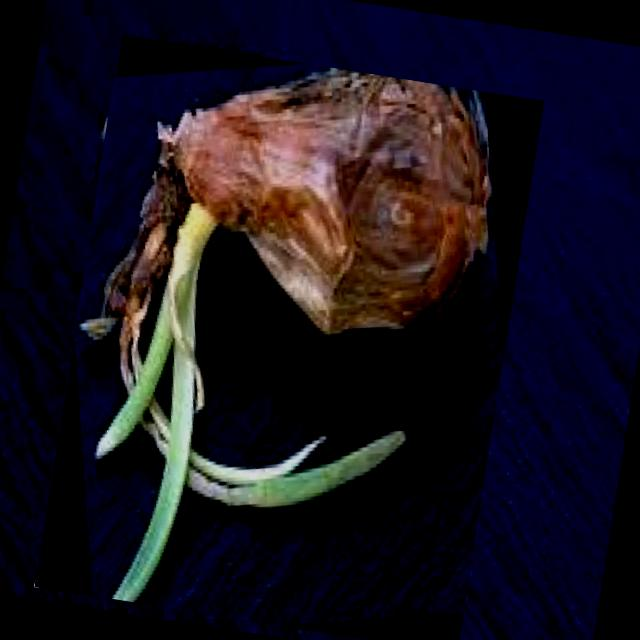rotten: (80, 68, 488, 601)
